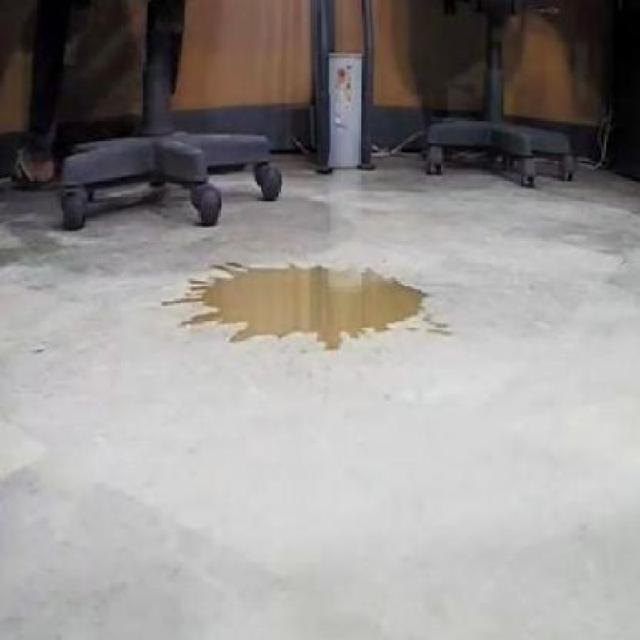spillage: (171, 269, 423, 349)
